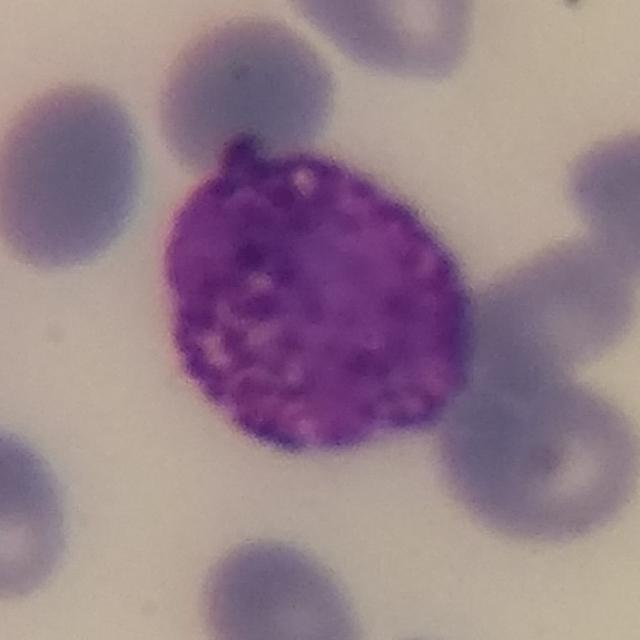Basophil: (142, 147, 471, 485)
RBC: (433, 357, 640, 552), (147, 6, 344, 184), (0, 74, 155, 278), (482, 238, 639, 372), (188, 528, 374, 640), (274, 0, 487, 87), (0, 415, 79, 609), (557, 121, 640, 270)
